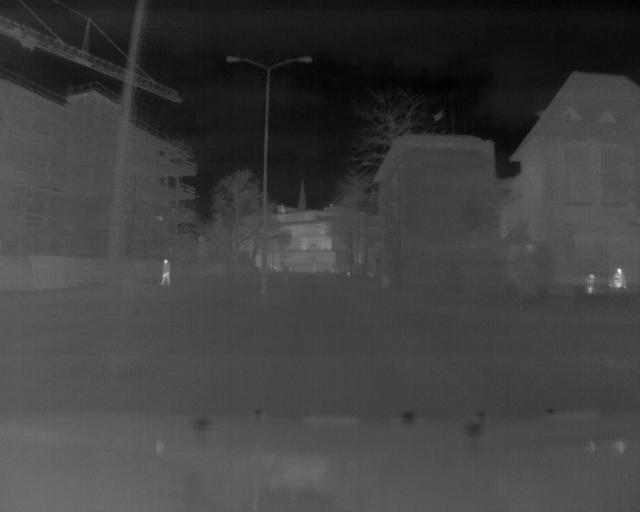person: (609, 265, 628, 292), (159, 256, 172, 287)
